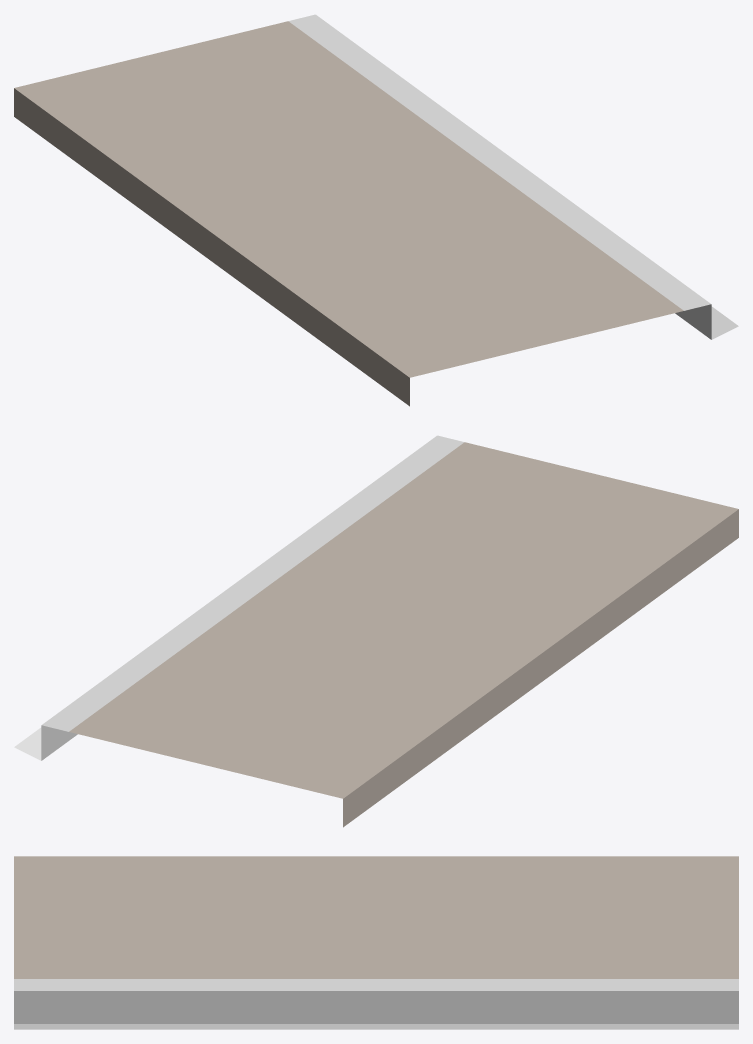
The model's file is Calçada_Simples.fbx.
3 views of the same model, one above another, from view 1: azimuth 30°, elevation 25°; view 2: azimuth 150°, elevation 25°; view 3: azimuth 270°, elevation 25° (orthographic). The views are drawn at different scales.
Parts seen in each view (by area): view 1: Calçada_Simples; view 2: Calçada_Simples; view 3: Calçada_Simples.
Boxes of the visible parts, left/top/right/bottom form: Calçada_Simples: left=14, top=14, right=738, bottom=406; Calçada_Simples: left=14, top=435, right=738, bottom=827; Calçada_Simples: left=14, top=856, right=738, bottom=1029.
Size of the model in its own units: 240 by 25 by 500.
